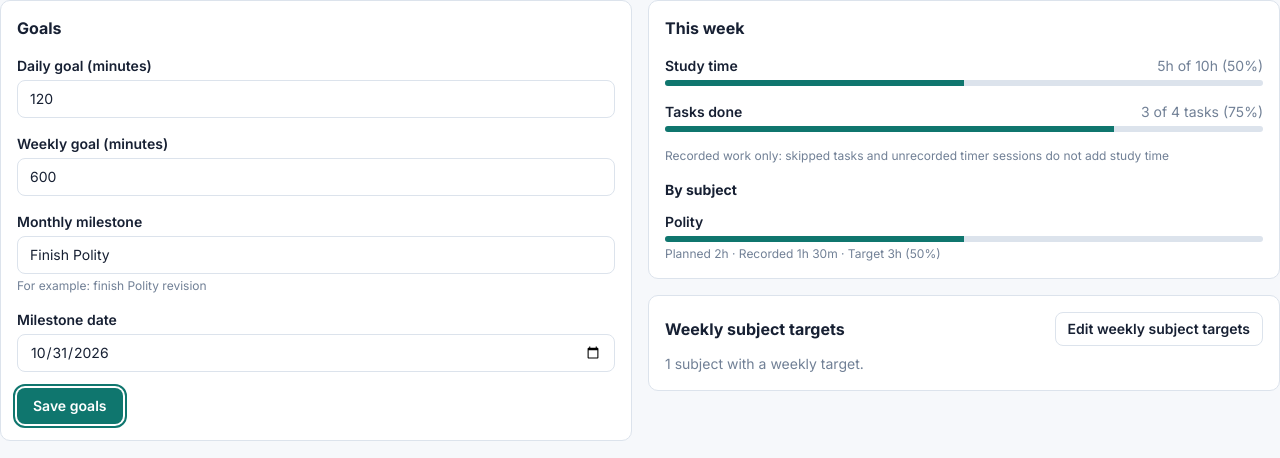
GoalsView › shows the API message on a 400
What coordinates should you click on to do the following:
click the button "Save goals"
I would click on:
 (70, 406)
Its box is [17,388,122,424].
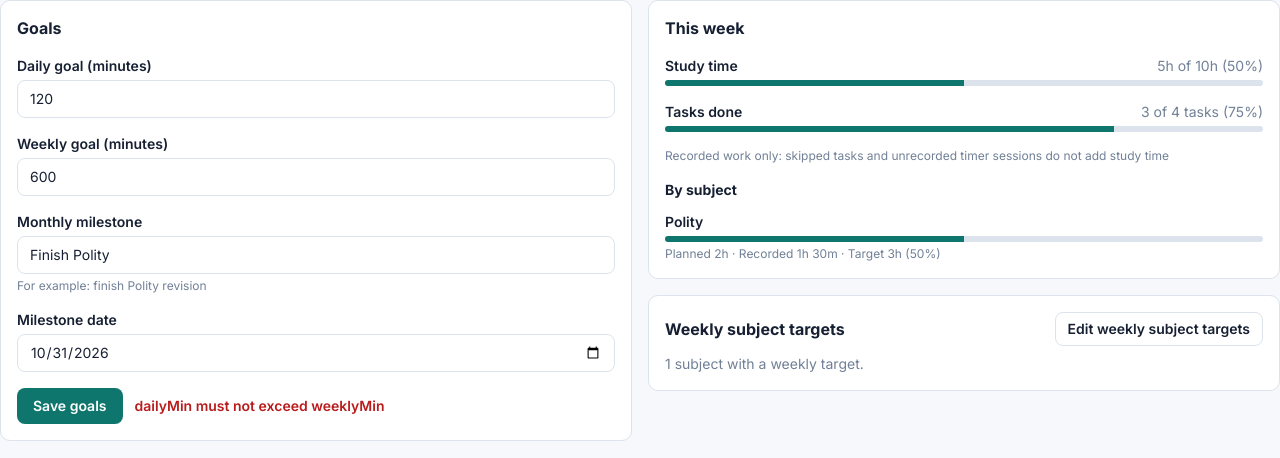
Result: the text "dailyMin must not exceed weeklyMin" is shown at [134,396,384,416]
